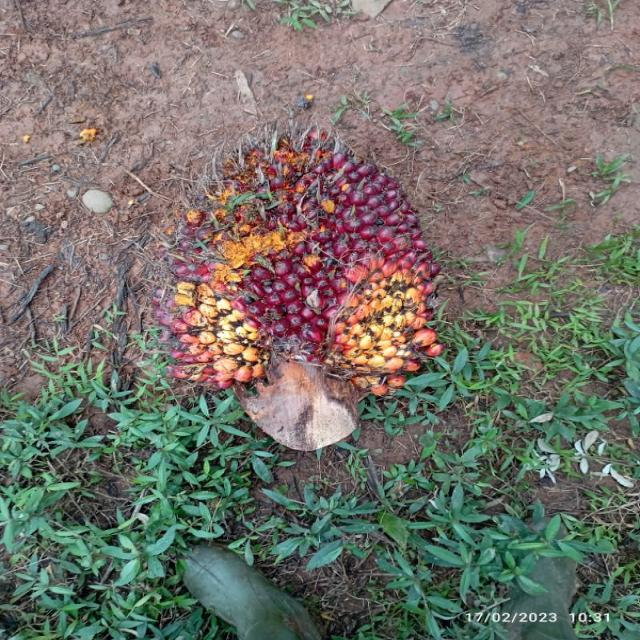fraksi 3: (117, 102, 480, 434)
